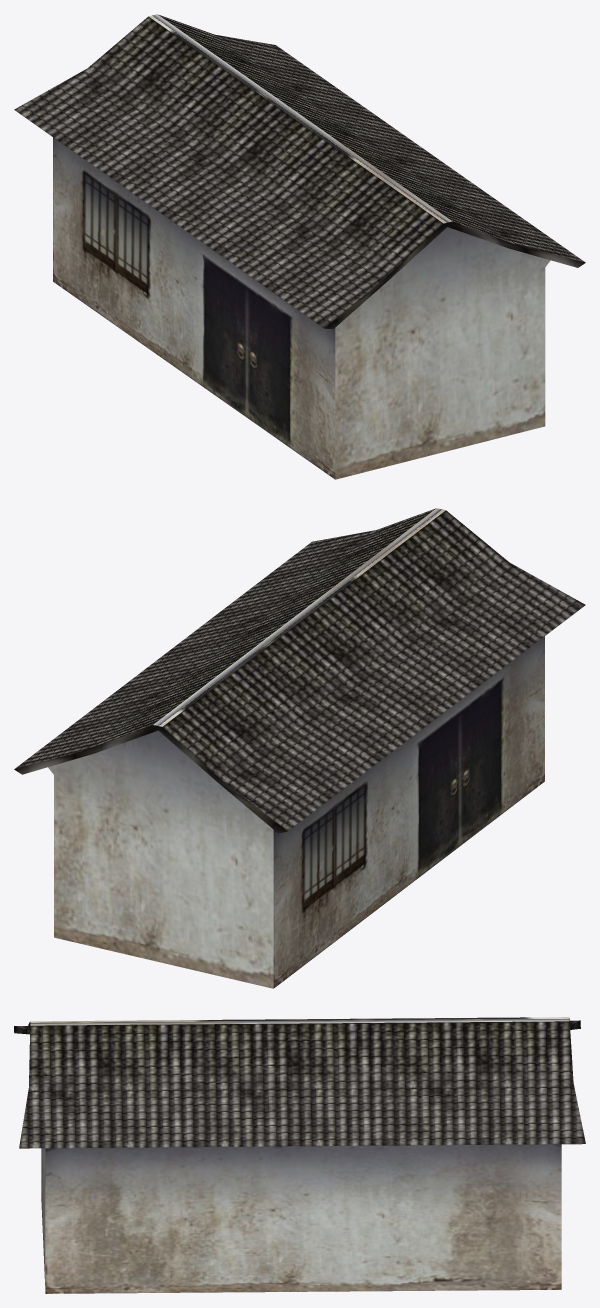
File: ian1614.obj
The picture shows the model from 3 angles, top to bottom: view 1: azimuth 30°, elevation 25°; view 2: azimuth 150°, elevation 25°; view 3: azimuth 270°, elevation 25°; orthographic projection. The views are drawn at different scales.
Visible parts, largest first — view 1: ian1614; view 2: ian1614; view 3: ian1614.
Part boxes in pixels (bbox=[...]): ian1614: bbox=[14, 14, 585, 479]; ian1614: bbox=[14, 508, 585, 988]; ian1614: bbox=[14, 1017, 585, 1293].
Bounding box in the file's own units: 121 × 99.21 × 232.
